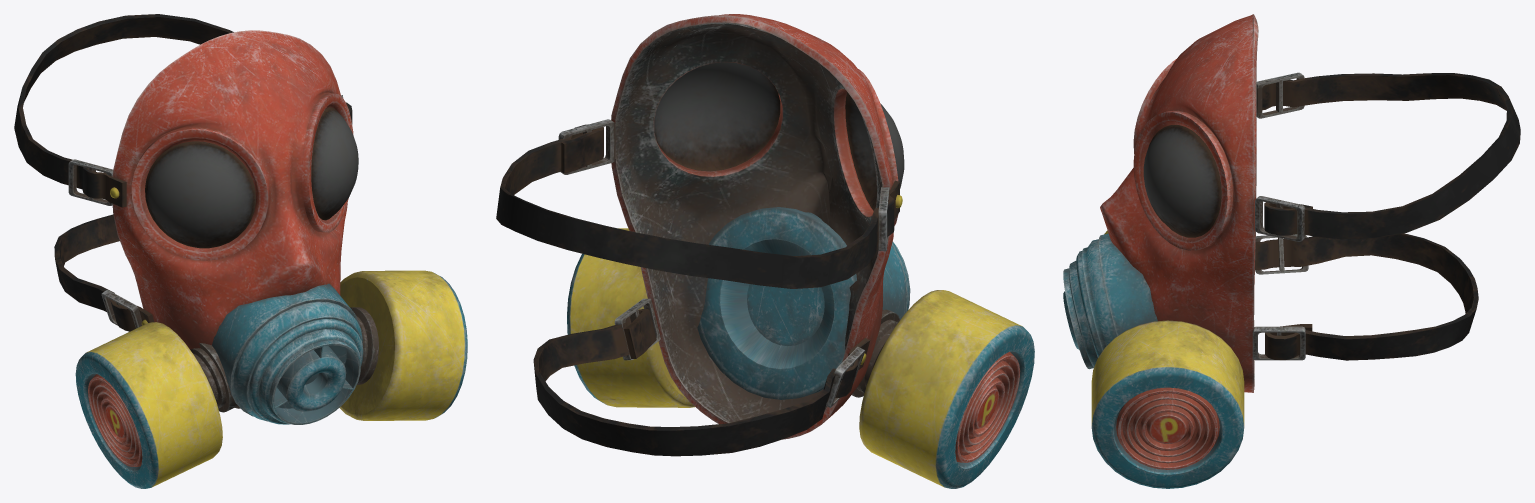
Rendered from gas_mask.glb.
3 renders of one model, left to right at view 1: azimuth 30°, elevation 25°; view 2: azimuth 150°, elevation 25°; view 3: azimuth 270°, elevation 25°, orthographic. The views are drawn at different scales.
Parts seen in each view (by area): view 1: SM_GasMaskPickUp.mo; view 2: SM_GasMaskPickUp.mo; view 3: SM_GasMaskPickUp.mo.
Part boxes in pixels (x1=…): SM_GasMaskPickUp.mo: x1=14, y1=14, x2=467, y2=488; SM_GasMaskPickUp.mo: x1=496, y1=14, x2=1034, y2=488; SM_GasMaskPickUp.mo: x1=1063, y1=14, x2=1520, y2=488.
Size of the model in its own units: 0.4211 by 0.4516 by 0.4781.
1 material, 1 textured.
